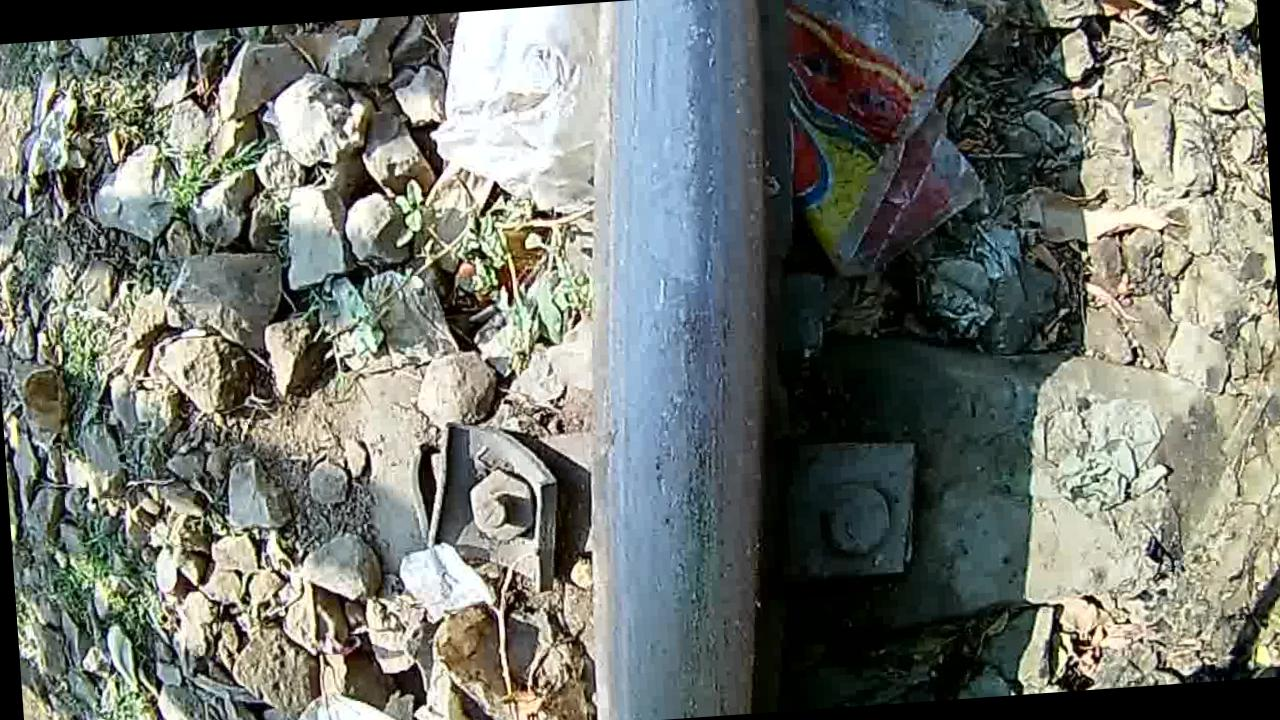clip_missing: (587, 0, 791, 720)
